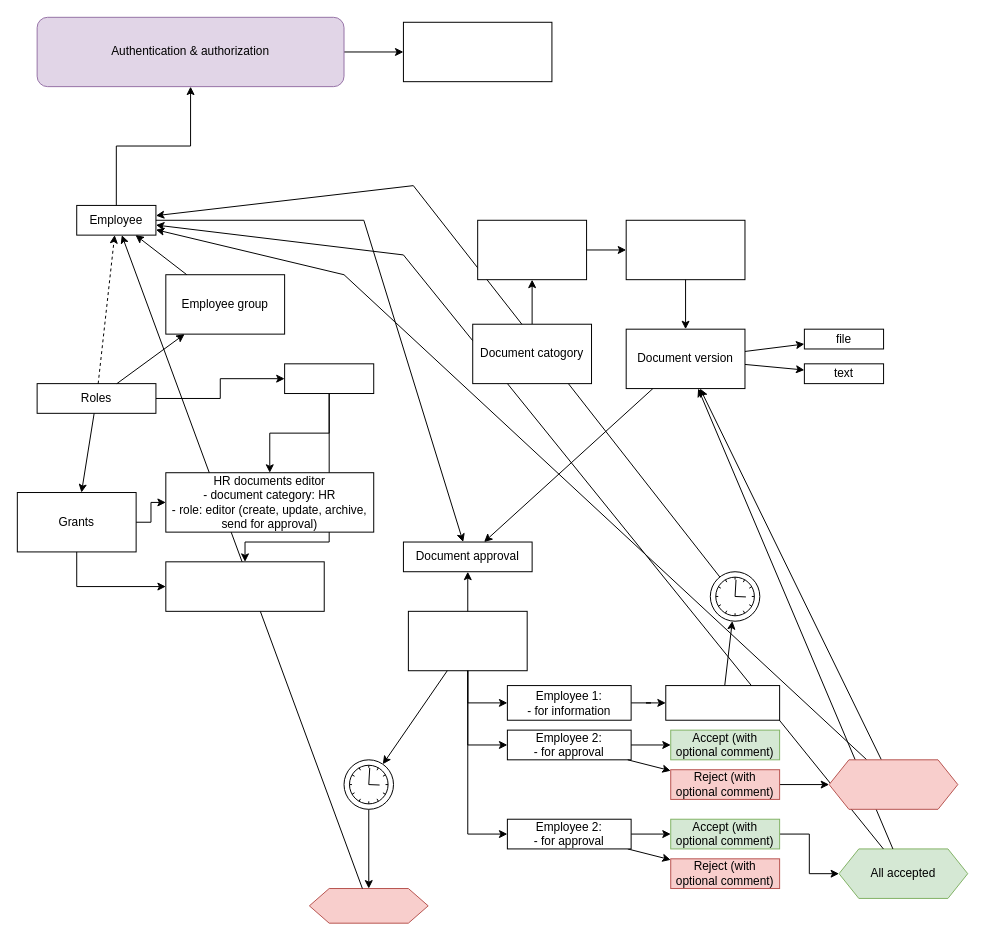
Some shapes in this 985 by 941 pixel diagram are drawn without their labels. The shapes that lost their labels are listed below. From the top down, each one's centre as x and y in pixels, then its label:
(x=477, y=51): User admin UI: - create/update employee - add/remove grants
(x=532, y=249): Document: - creation time
(x=685, y=249): change history: - modification time - modification user - is archived?
(x=329, y=378): HR
(x=244, y=586): HR documents viewer - document category: HR - role: viewer
(x=467, y=640): Approval path - approval deadline (e.g. 2 days)
(x=722, y=702): Accepted (with optional comment)
(x=893, y=784): Send document back to sender
(x=368, y=905): Expired
